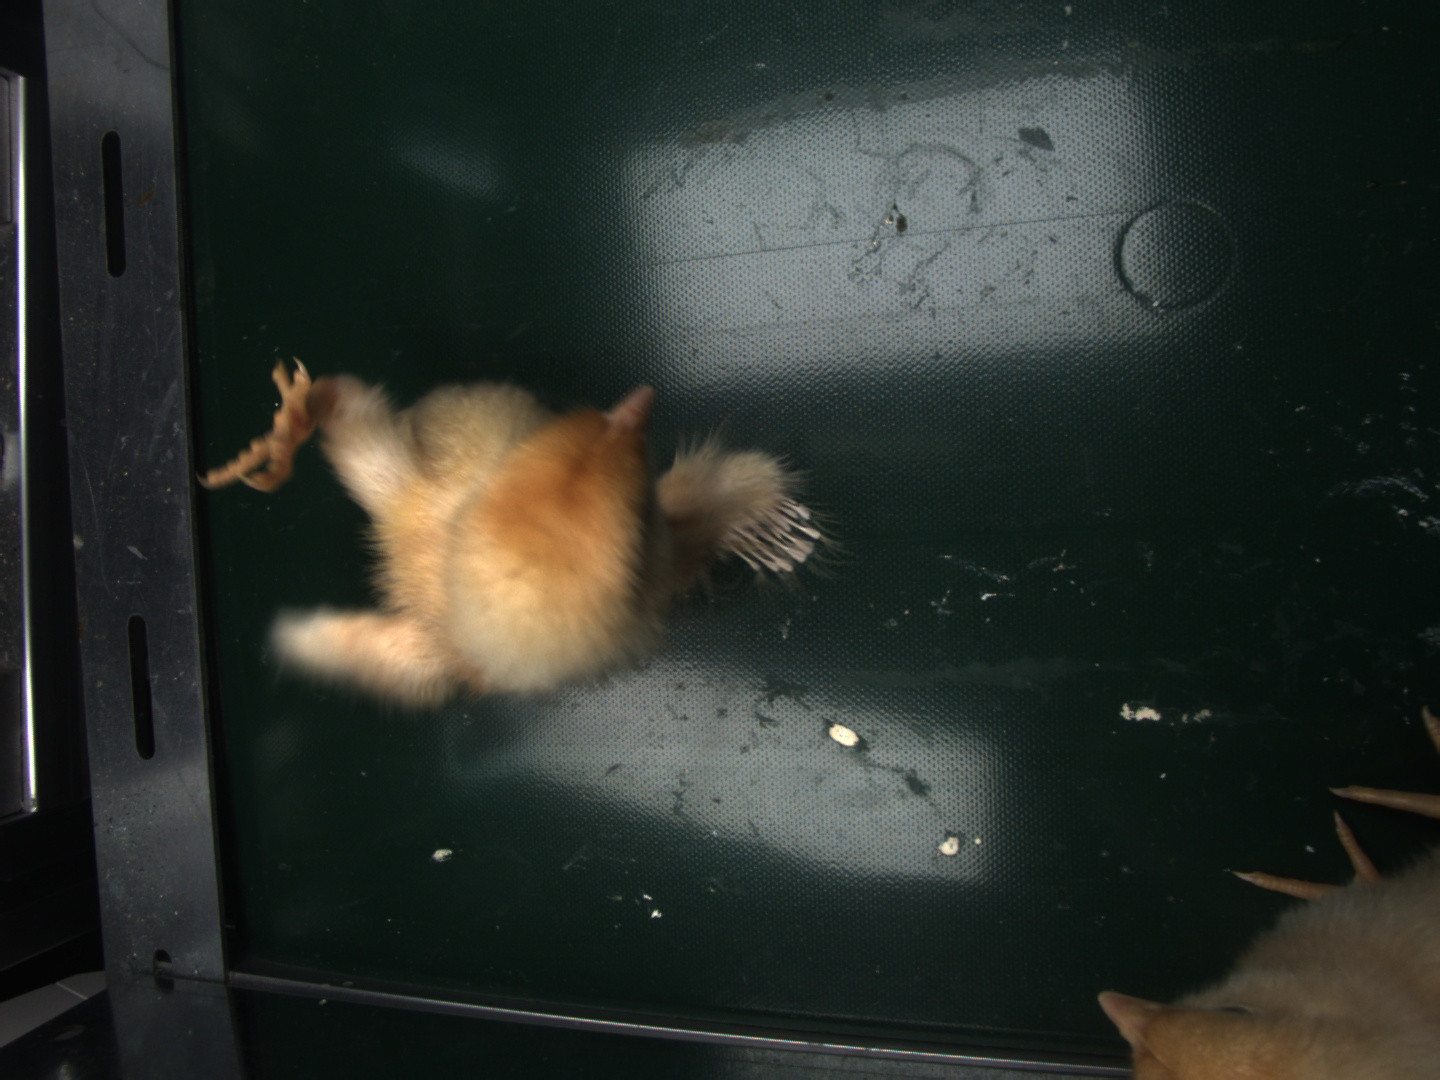female: (732, 493, 811, 568)
